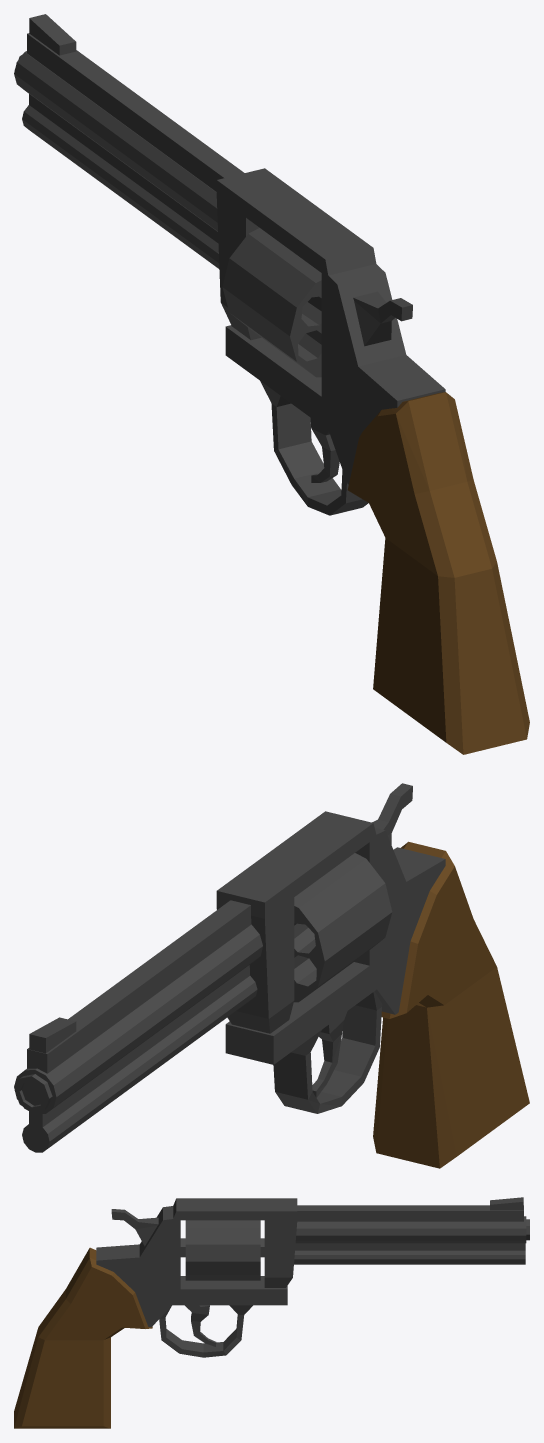
File: gun_revolver_02.glb
3 renders of one model, top to bottom at view 1: azimuth 30°, elevation 25°; view 2: azimuth 150°, elevation 25°; view 3: azimuth 270°, elevation 25°, orthographic. The views are drawn at different scales.
Visible parts, largest first — view 1: revolver_02; view 2: revolver_02; view 3: revolver_02.
Part boxes in pixels (x1,y1,x2,y2): revolver_02: (14,14,529,754); revolver_02: (14,783,529,1168); revolver_02: (14,1197,529,1428).
Size of the model in its own units: 0.0388 by 0.1415 by 0.3.
